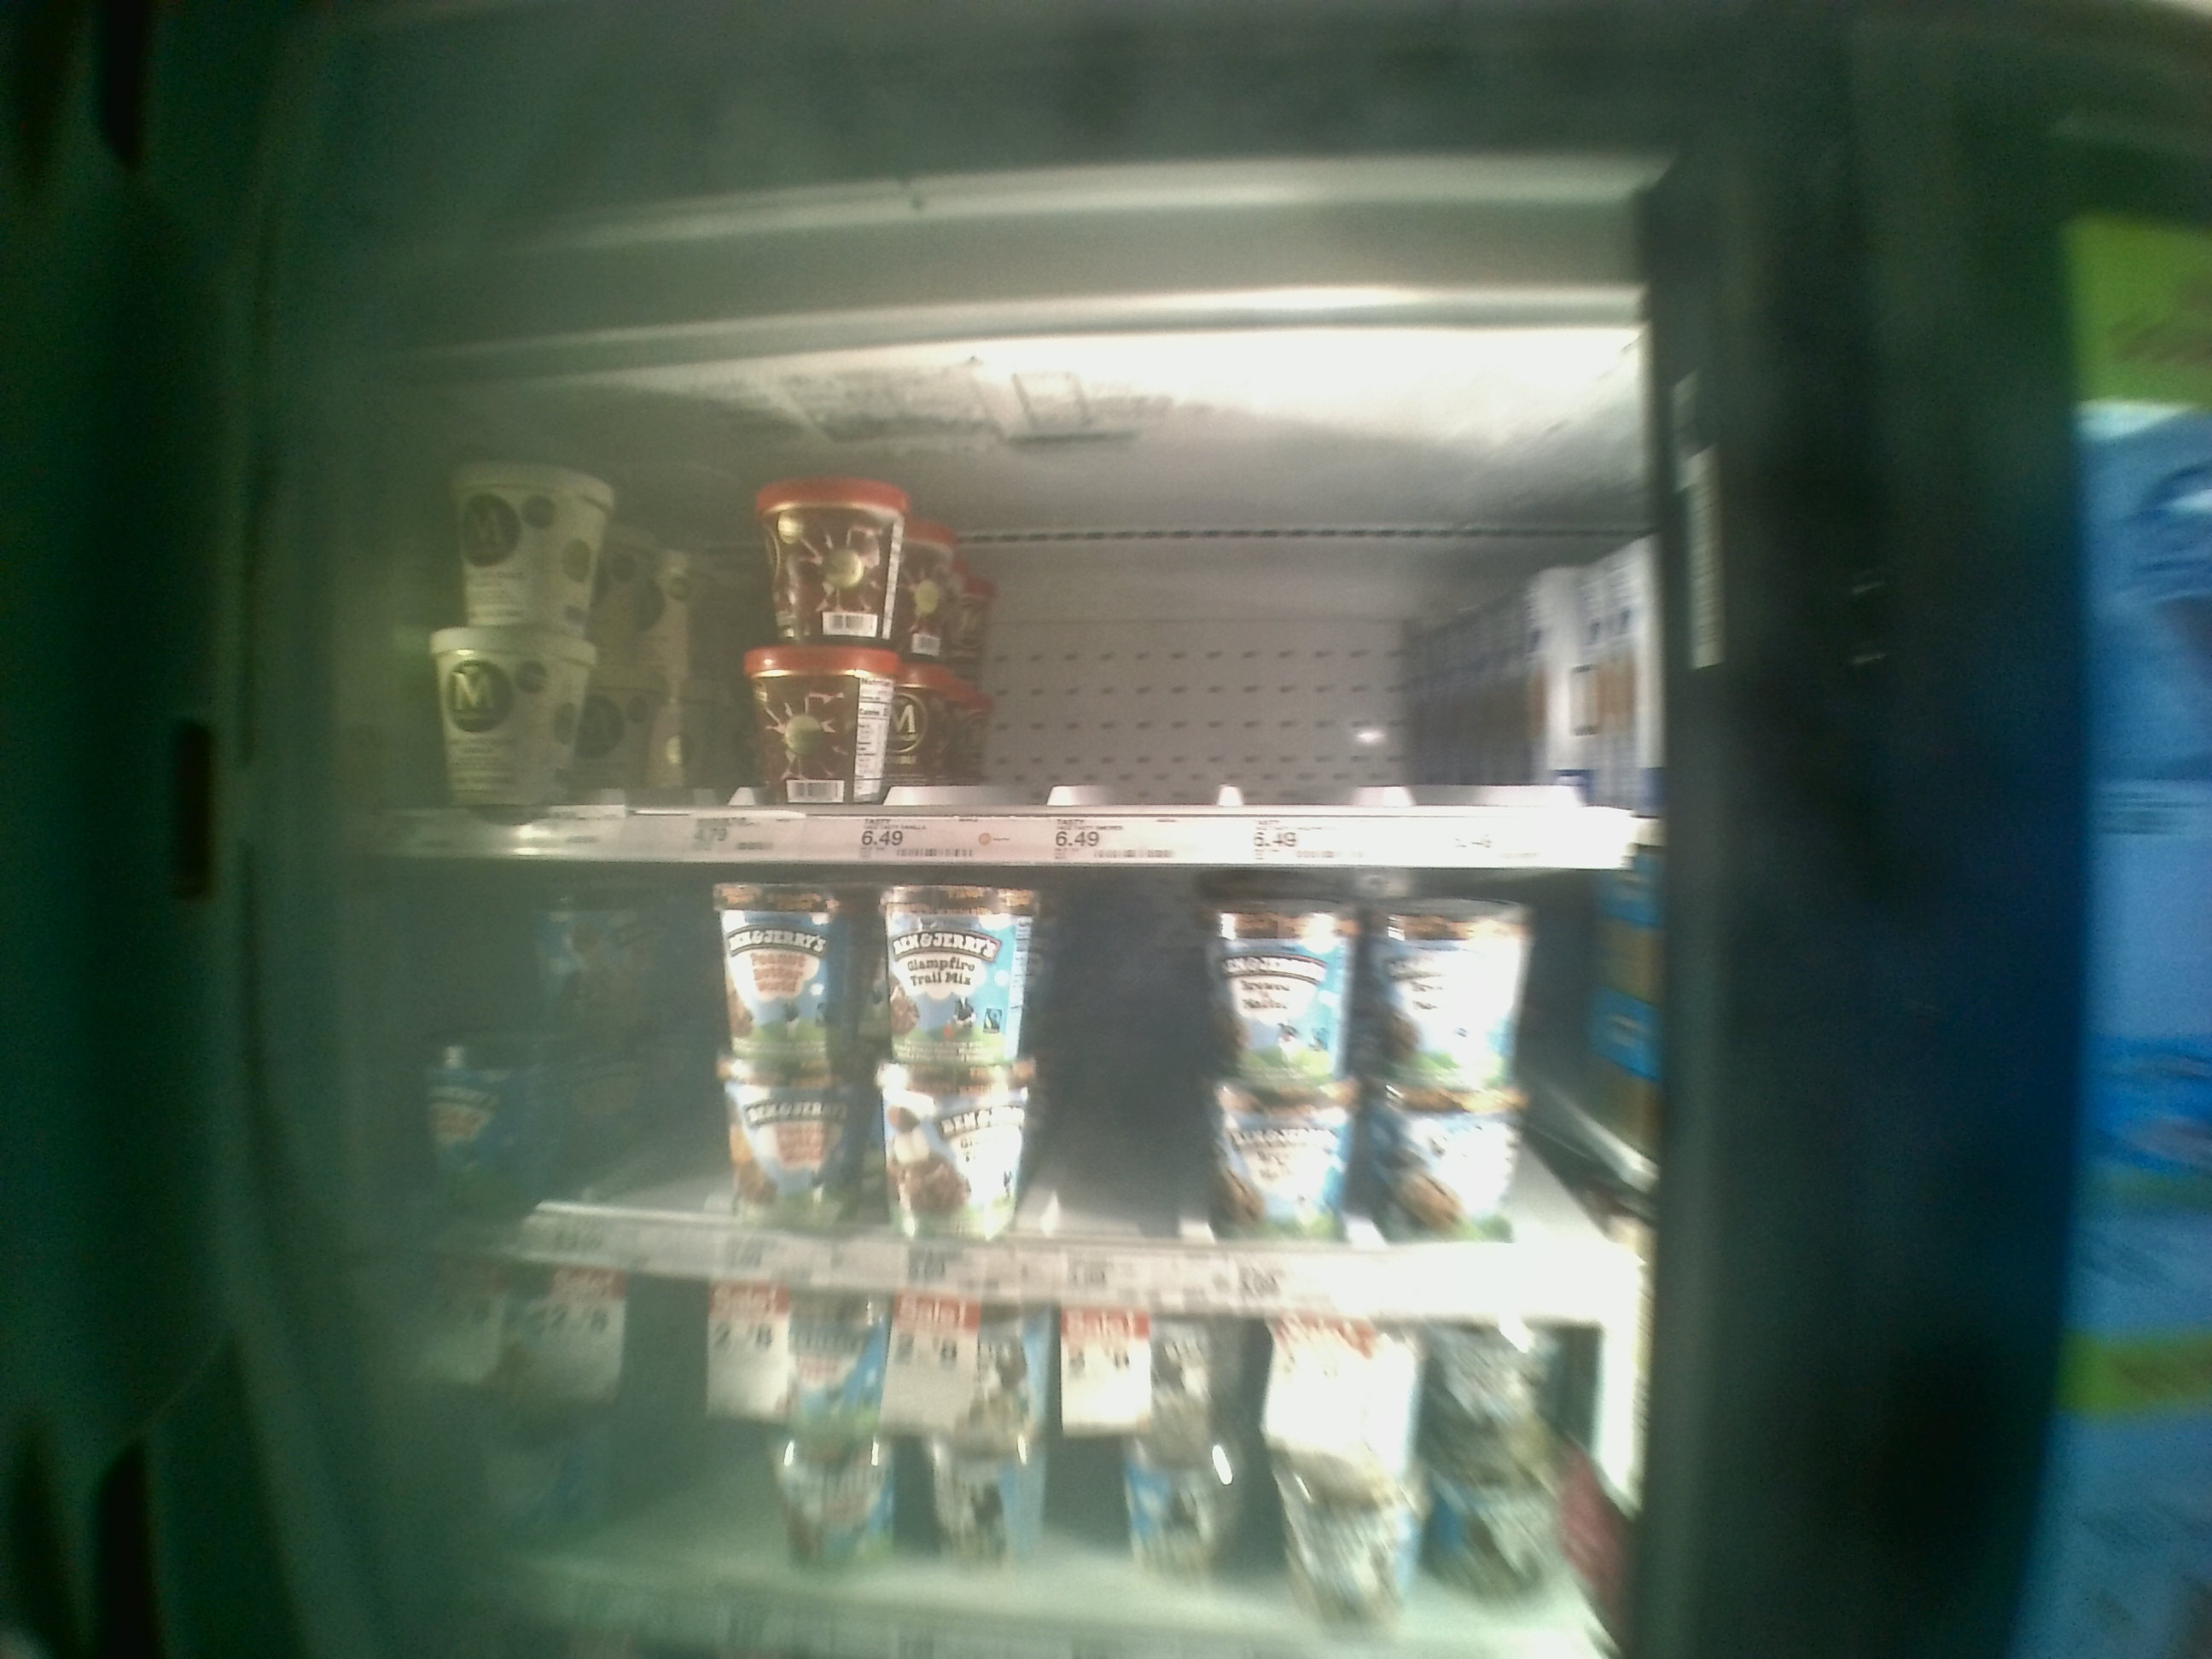shelf: (366, 396, 1672, 864), (369, 870, 1669, 1309)
